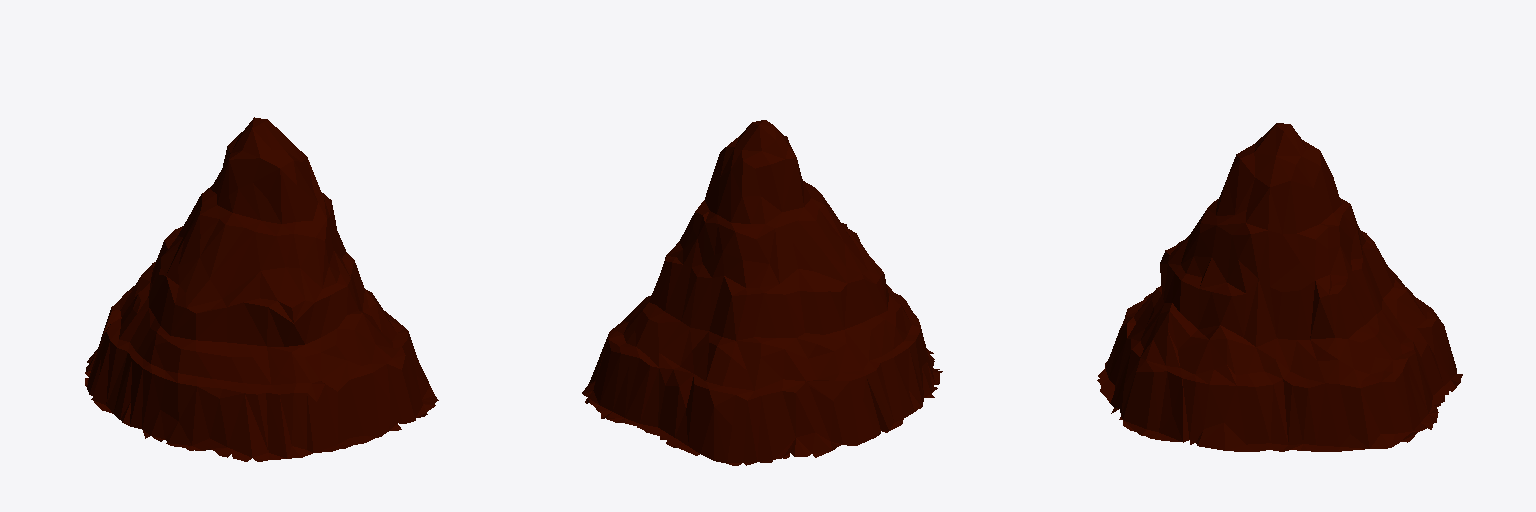
Rendered from Mountain_2_LOD_Medium.obj.
The picture shows the model from 3 angles: view 1: azimuth 30°, elevation 25°; view 2: azimuth 150°, elevation 25°; view 3: azimuth 270°, elevation 25°; orthographic projection.
Parts seen in each view (by area): view 1: Mountain_2_LOD_Medium_Plane.009; view 2: Mountain_2_LOD_Medium_Plane.009; view 3: Mountain_2_LOD_Medium_Plane.009.
Part boxes in pixels (bbox=[...]): Mountain_2_LOD_Medium_Plane.009: bbox=[85, 117, 438, 461]; Mountain_2_LOD_Medium_Plane.009: bbox=[582, 120, 942, 465]; Mountain_2_LOD_Medium_Plane.009: bbox=[1097, 123, 1462, 451].
Size of the model in its own units: 118 by 105 by 130.